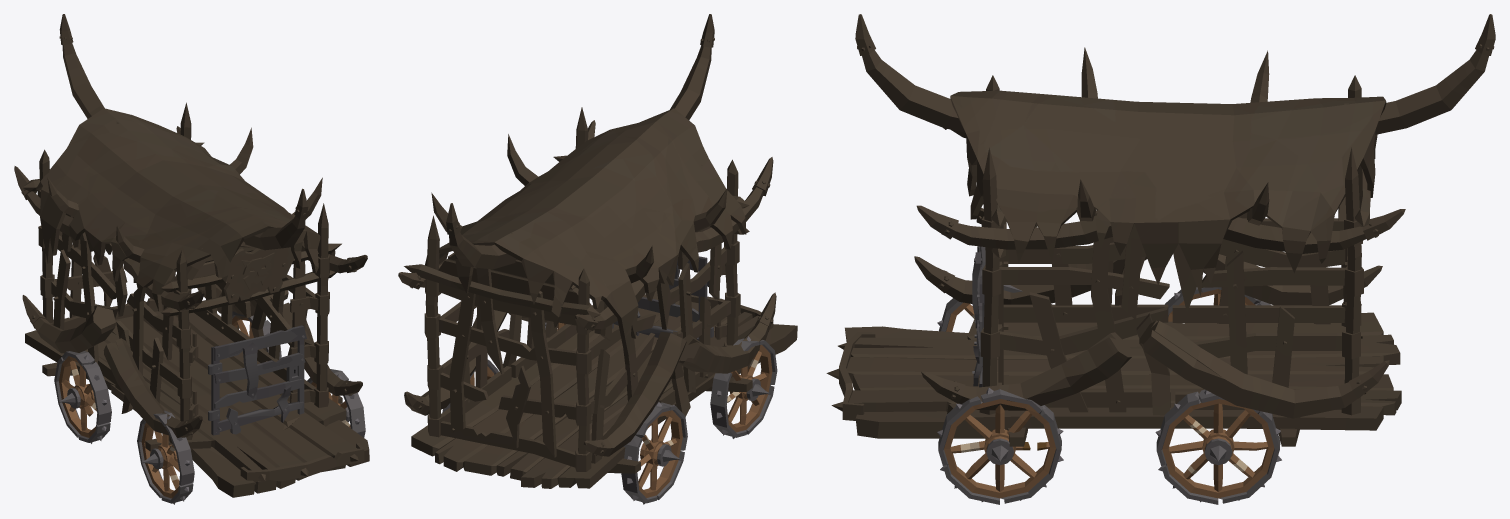
File: bog_cage_wagon.gltf
3 views of the same model, side by side, from view 1: azimuth 30°, elevation 25°; view 2: azimuth 150°, elevation 25°; view 3: azimuth 270°, elevation 25° (orthographic). The views are drawn at different scales.
Visible parts, largest first — view 1: bog_cage_wagon; view 2: bog_cage_wagon; view 3: bog_cage_wagon.
Part boxes in pixels (x1,y1,x2,y2): bog_cage_wagon: (14,14,369,504); bog_cage_wagon: (398,14,797,504); bog_cage_wagon: (826,14,1495,504).
Size of the model in its own units: 2.72 by 3.92 by 5.48.
2 materials, 2 textured.
